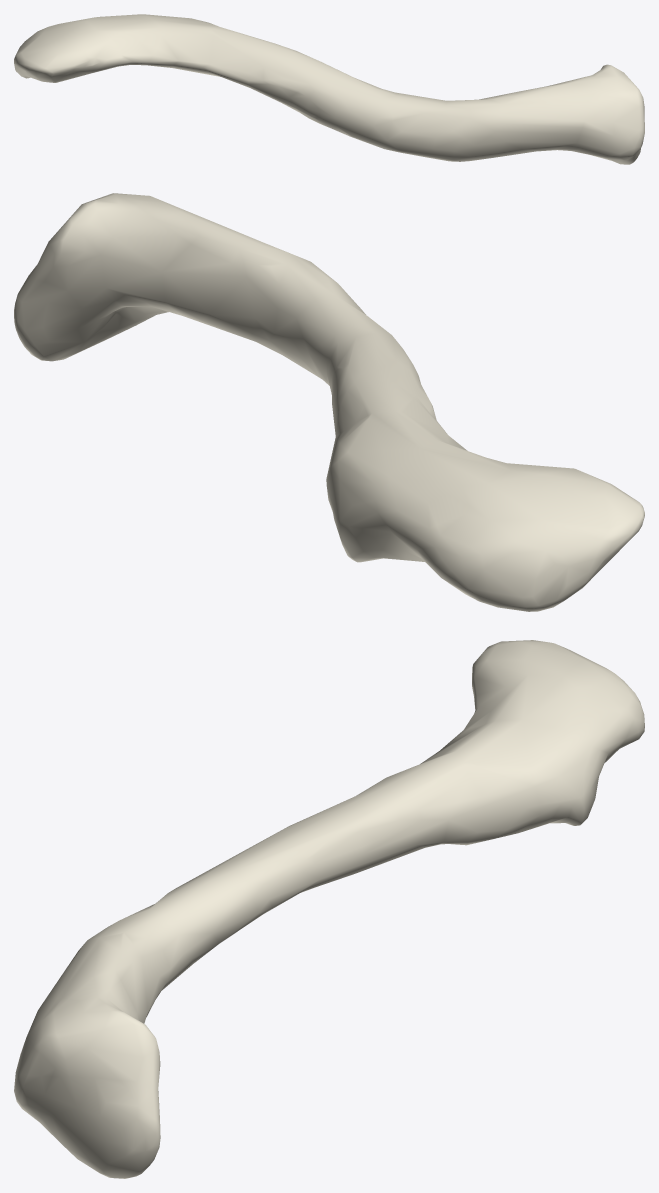
3 renders of one model, top to bottom at view 1: azimuth 30°, elevation 25°; view 2: azimuth 150°, elevation 25°; view 3: azimuth 270°, elevation 25°, orthographic. The views are drawn at different scales.
Parts seen in each view (by area): view 1: ZA_68a04acb0594e78d; view 2: ZA_68a04acb0594e78d; view 3: ZA_68a04acb0594e78d.
Part boxes in pixels (x1,y1,x2,y2): ZA_68a04acb0594e78d: (14,14,644,164); ZA_68a04acb0594e78d: (14,193,644,611); ZA_68a04acb0594e78d: (14,640,644,1178).
Size of the model in its own units: 0.1431 by 0.0361 by 0.1028.
